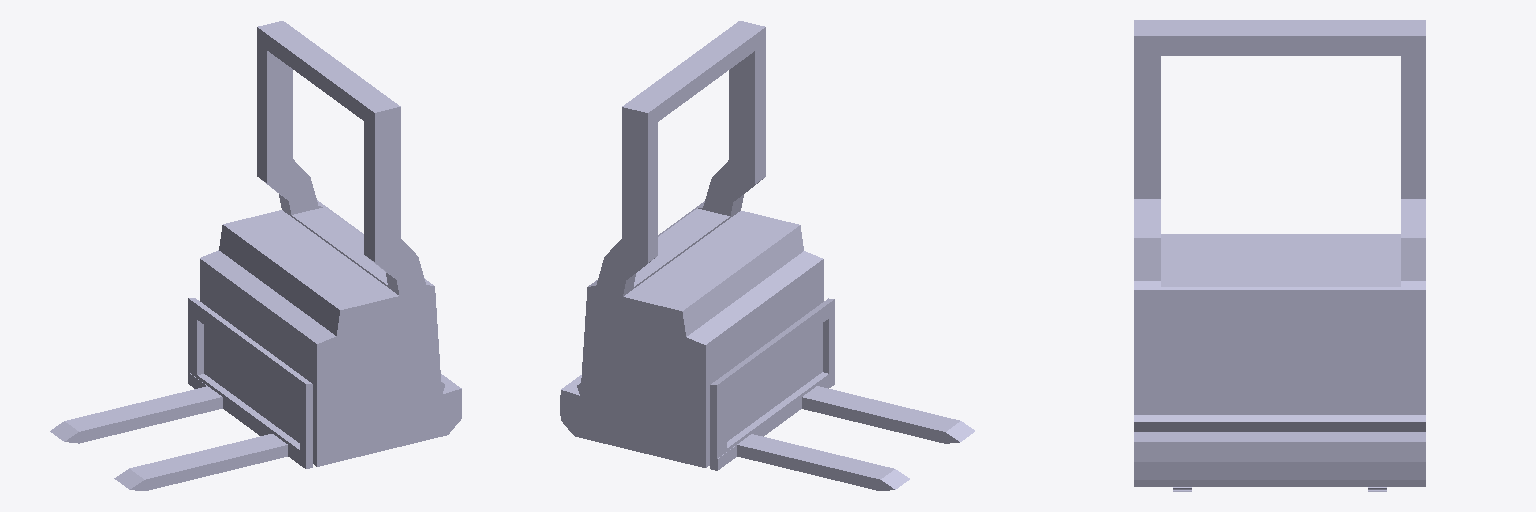
URDF robot description (Robot):
<?xml version="1.0" ?>
<robot name="Robot">
  <!--Generated by CROSS, a ROS Workbench for FreeCAD (https://github.com/galou/freecad.cross)-->
  <link name="base_link">
    <visual>
      <!--Box_Chassis/Body001.-->
      <origin rpy="0.0 -0.0 0.0" xyz="0.0 0.0 0.0"/>
      <geometry>
        <mesh filename="package://forklift_freecad/meshes/first_robot_Forklift_Chassis.dae"/>
      </geometry>
    </visual>
    <collision>
      <!--Box_Chassis/Body001.-->
      <origin rpy="0.0 -0.0 0.0" xyz="0.0 0.0 0.0"/>
      <geometry>
        <mesh filename="package://forklift_freecad/meshes/first_robot_Forklift_Chassis.dae"/>
      </geometry>
    </collision>
    <inertial>
      <mass value="200.4799999999999995"/>
      <origin rpy="0.0 -0.0 0.0" xyz="-0.4 -8.7e-18 4e-19"/>
      <inertia ixx="0.022464" ixy="0.0" ixz="-0.0" iyy="0.049464" iyz="0.0" izz="0.0702"/>
    </inertial>
  </link>
  <link name="left_wheel">
    <visual>
      <!--Adjustable Wheel/Body.-->
      <origin rpy="0.0 -0.0 0.0" xyz="0.0 0.0 0.0"/>
      <geometry>
        <mesh filename="package://forklift_freecad/meshes/first_robot_Body.dae"/>
      </geometry>
    </visual>
    <collision>
      <!--Adjustable Wheel.Body_bbox-->
      <origin rpy="0.0 -0.0 0.0" xyz="0.0 0.0 0.015"/>
      <geometry>
        <mesh filename="package://forklift_freecad/meshes/first_robot_Body.dae"/>
      </geometry>
    </collision>
    <inertial>
      <mass value="0.7509245446194294"/>
      <origin rpy="0.0 -0.0 0.0" xyz="-1.38e-17 -2.1e-18 -1e-19"/>
      <inertia ixx="0.0006186158699452" ixy="-0.0" ixz="-0.0" iyy="0.0011245930581975" iyz="-0.0" izz="0.0006186158699452"/>
    </inertial>
  </link>
  <link name="right_wheel">
    <visual>
      <!--Adjustable Wheel/Body.-->
      <origin rpy="0.0 -0.0 0.0" xyz="0.0 0.0 0.0"/>
      <geometry>
        <mesh filename="package://forklift_freecad/meshes/first_robot_Body.dae"/>
      </geometry>
    </visual>
    <collision>
      <!--Adjustable Wheel.Body_bbox-->
      <origin rpy="0.0 -0.0 0.0" xyz="0.0 0.0 0.015"/>
      <geometry>
        <mesh filename="package://forklift_freecad/meshes/first_robot_Body.dae"/>
      </geometry>
    </collision>
    <inertial>
      <mass value="0.7509245446194294"/>
      <origin rpy="0.0 -0.0 0.0" xyz="-1.38e-17 -2.1e-18 -1e-19"/>
      <inertia ixx="0.0006186158699452" ixy="-0.0" ixz="-0.0" iyy="0.0011245930581975" iyz="-0.0" izz="0.0006186158699452"/>
    </inertial>
  </link>
  <link name="tines_link">
    <visual>
      <!--Tines/Body002.-->
      <origin rpy="0.0 -0.0 0.0" xyz="0.0 0.0 0.0"/>
      <geometry>
        <mesh filename="package://forklift_freecad/meshes/first_robot_Body002.dae"/>
      </geometry>
    </visual>
    <collision>
      <!--Tines/Body002.-->
      <origin rpy="0.0 -0.0 0.0" xyz="0.0 0.0 0.0"/>
      <geometry>
        <mesh filename="package://forklift_freecad/meshes/first_robot_Body002.dae"/>
      </geometry>
    </collision>
    <inertial>
      <mass value="0.7509245446194294"/>
      <origin rpy="0.0 -0.0 0.0" xyz="-1.38e-17 -2.1e-18 -1e-19"/>
      <inertia ixx="0.0006186158699452" ixy="-0.0" ixz="-0.0" iyy="0.0011245930581975" iyz="-0.0" izz="0.0006186158699452"/>
    </inertial>
  </link>
  <link name="back_left_wheel">
    <visual>
      <!--Adjustable Wheel/Body.-->
      <origin rpy="0.0 -0.0 0.0" xyz="0.0 0.0 0.0"/>
      <geometry>
        <mesh filename="package://forklift_freecad/meshes/first_robot_Body.dae"/>
      </geometry>
    </visual>
    <collision>
      <!--RollerWheel/Sphere.-->
      <geometry>
        <sphere radius="0.03"/>
      </geometry>
    </collision>
    <collision>
      <!--Adjustable Wheel/Body.-->
      <origin rpy="0.0 -0.0 0.0" xyz="0.0 0.0 0.0"/>
      <geometry>
        <mesh filename="package://forklift_freecad/meshes/first_robot_Body.dae"/>
      </geometry>
    </collision>
    <inertial>
      <mass value="0.7509245446194294"/>
      <origin rpy="0.0 -0.0 0.0" xyz="-1.38e-17 -2.1e-18 -1e-19"/>
      <inertia ixx="0.0006186158699452" ixy="-0.0" ixz="-0.0" iyy="0.0011245930581975" iyz="-0.0" izz="0.0006186158699452"/>
    </inertial>
  </link>
  <link name="back_right_wheel">
    <visual>
      <!--Adjustable Wheel/Body.-->
      <origin rpy="0.0 -0.0 0.0" xyz="0.0 0.0 0.0"/>
      <geometry>
        <mesh filename="package://forklift_freecad/meshes/first_robot_Body.dae"/>
      </geometry>
    </visual>
    <collision>
      <!--Adjustable Wheel/Body.-->
      <origin rpy="0.0 -0.0 0.0" xyz="0.0 0.0 0.0"/>
      <geometry>
        <mesh filename="package://forklift_freecad/meshes/first_robot_Body.dae"/>
      </geometry>
    </collision>
    <inertial>
      <mass value="0.7509245446194294"/>
      <origin rpy="0.0 -0.0 0.0" xyz="-1.38e-17 -2.1e-18 -1e-19"/>
      <inertia ixx="0.0006186158699452" ixy="-0.0" ixz="-0.0" iyy="0.0011245930581975" iyz="-0.0" izz="0.0006186158699452"/>
    </inertial>
  </link>
  <joint name="left_wheel_joint" type="continuous">
    <parent link="base_link"/>
    <child link="left_wheel"/>
    <origin rpy="-1.5707963267948966 0.0 0.0" xyz="-0.8 0.5 0.0"/>
    <axis xyz="0 0 -1"/>
  </joint>
  <joint name="right_wheel_joint" type="continuous">
    <parent link="base_link"/>
    <child link="right_wheel"/>
    <origin rpy="-1.5707963267948966 0.0 0.0" xyz="-0.8 -0.5 0.0"/>
    <axis xyz="0 0 -1"/>
  </joint>
  <joint name="tines_joint" type="prismatic">
    <parent link="base_link"/>
    <child link="tines_link"/>
    <origin rpy="0.0 -0.0 0.0" xyz="0.0 0.75 0.0"/>
    <axis xyz="0 0 1"/>
    <limit effort="1.0" lower="0.0" upper="1.0" velocity="1.0"/>
  </joint>
  <joint name="back_left_joint" type="continuous">
    <parent link="base_link"/>
    <child link="back_left_wheel"/>
    <origin rpy="-1.5707963267948966 0.0 0.0" xyz="-0.3 -0.5 0.0"/>
    <axis xyz="0 0 -1"/>
  </joint>
  <joint name="back_right_joint" type="continuous">
    <parent link="base_link"/>
    <child link="back_right_wheel"/>
    <origin rpy="-1.5707963267948966 0.0 0.0" xyz="-0.3 0.5 0.0"/>
    <axis xyz="0 0 -1"/>
  </joint>
</robot>

--- Facts derived from the render (not from the file) ---
3 views of the same robot in one strip: view 1: azimuth 30°, elevation 25°; view 2: azimuth 150°, elevation 25°; view 3: azimuth 270°, elevation 25° (orthographic).
Model Robot with 6 links and 5 joints (4 continuous, 1 prismatic), rooted at base_link, posed every joint at zero.
Visible links, largest first — view 1: base_link, tines_link; view 2: base_link, tines_link; view 3: base_link.
Boxes of the visible links, x1,y1,x2,y2 form: base_link: (200, 21, 461, 466); tines_link: (50, 298, 312, 490); base_link: (560, 21, 823, 467); tines_link: (710, 298, 974, 490); base_link: (1134, 20, 1425, 486).
Bounding box of the posed robot: 2.32 × 1.5 × 2.5 m (x, y, z).
Meshes: 3 distinct files referenced, 6 mesh visuals loaded (3 Collada DAE).